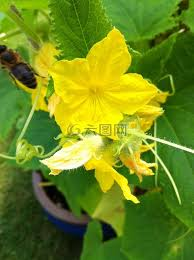cucumber_plant: (40, 24, 168, 230)
